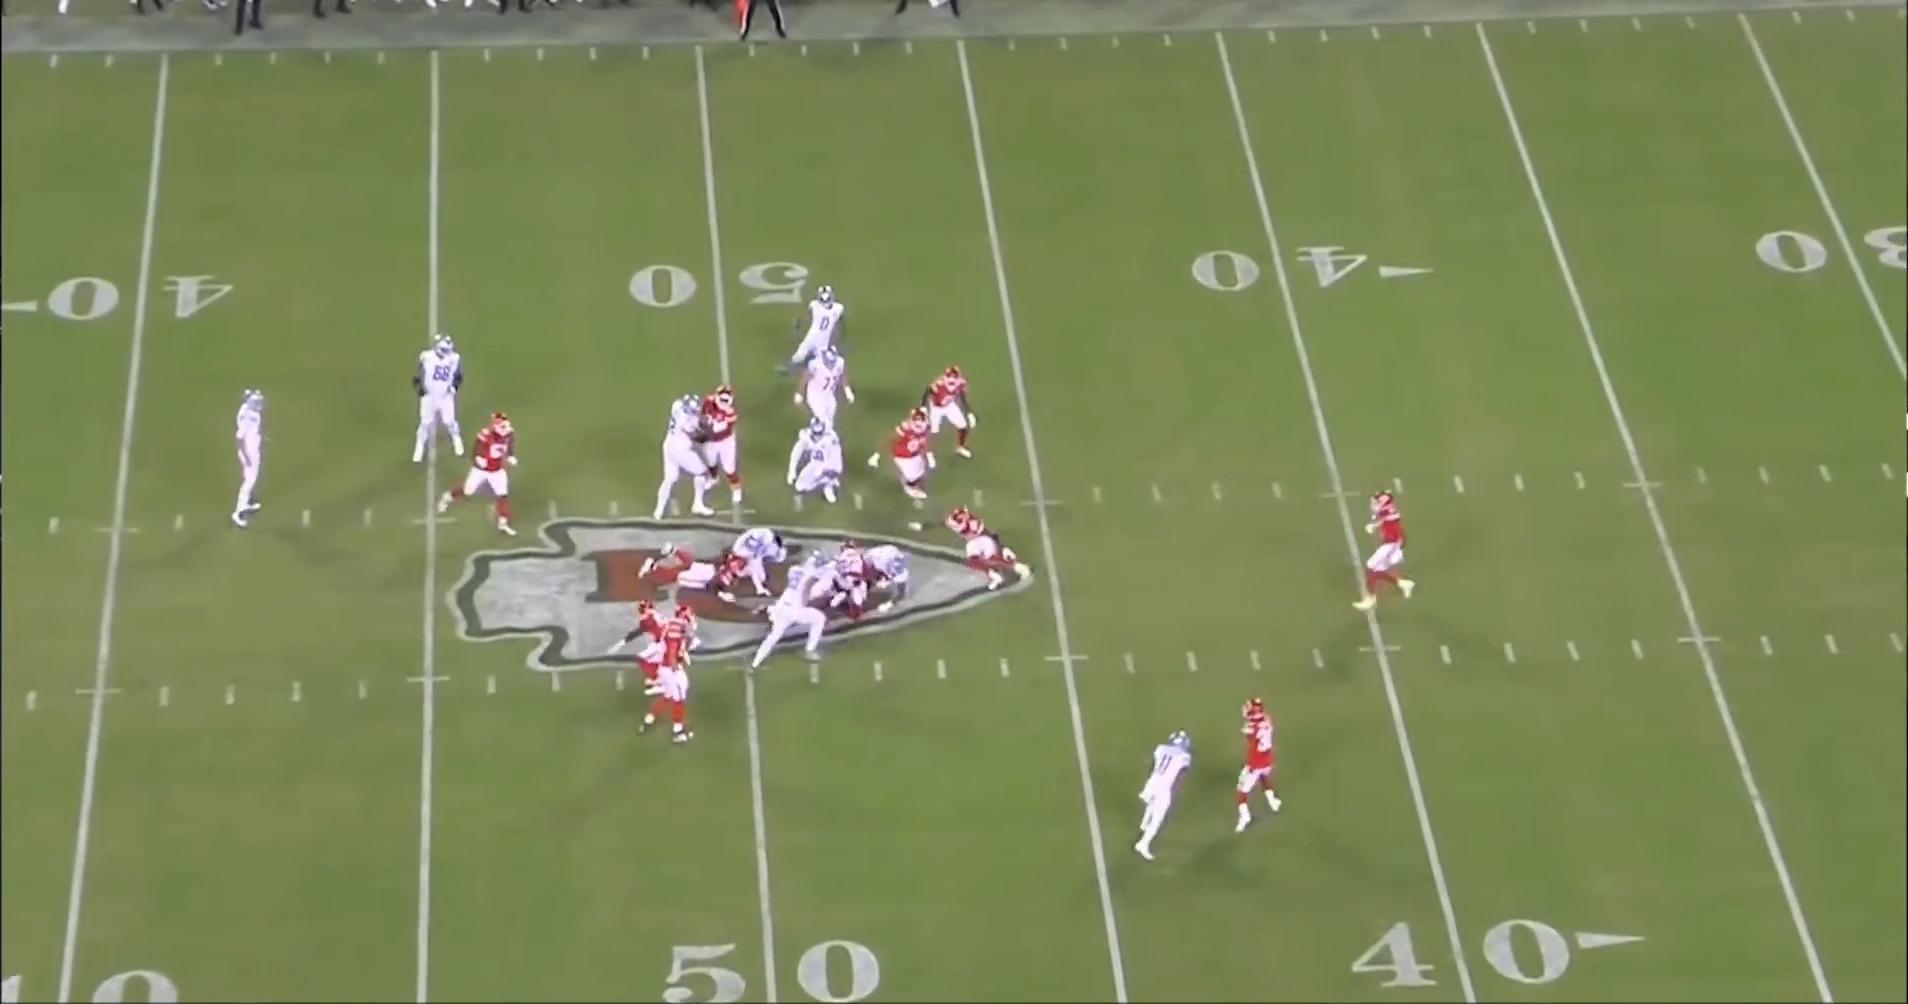player: (744, 551, 839, 671), (436, 411, 523, 534), (1131, 724, 1202, 862), (634, 542, 756, 619), (407, 332, 477, 464), (635, 603, 698, 748), (657, 388, 725, 520), (1353, 487, 1419, 616), (1228, 698, 1286, 834), (788, 343, 857, 448), (690, 379, 746, 507), (225, 385, 273, 533), (838, 541, 916, 630), (792, 282, 863, 373), (717, 524, 793, 609), (815, 547, 882, 635), (796, 418, 856, 516), (947, 507, 1009, 600), (920, 364, 976, 465), (888, 403, 938, 510), (604, 597, 662, 667)
ref: (735, 0, 800, 43)
